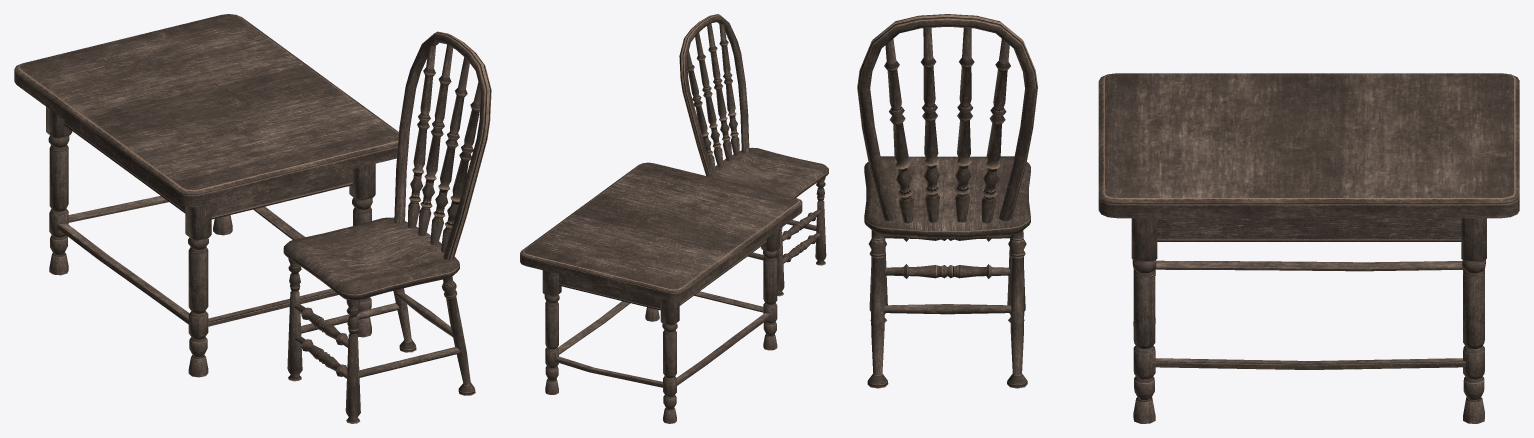
Rendered from FurnitureTest.fbx.
3 views of the same model, side by side, from view 1: azimuth 30°, elevation 25°; view 2: azimuth 150°, elevation 25°; view 3: azimuth 270°, elevation 25° (orthographic). The views are drawn at different scales.
Visible parts, largest first — view 1: Cube.026, Cube.024; view 2: Cube.026, Cube.024; view 3: Cube.026, Cube.024.
Boxes of the visible parts, <box> form: Cube.026: <box>14,14,398,377</box>; Cube.024: <box>283,31,491,423</box>; Cube.026: <box>520,162,802,423</box>; Cube.024: <box>679,14,828,296</box>; Cube.026: <box>1098,73,1519,423</box>; Cube.024: <box>857,14,1037,388</box>.
Bounding box in the file's own units: 1475 × 2183 × 3175.
Materials: 1 (1 with a texture image).
